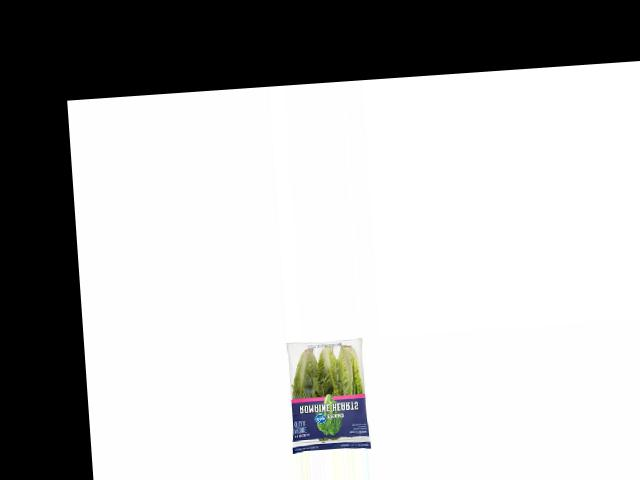lettuce: (282, 340, 374, 451)
